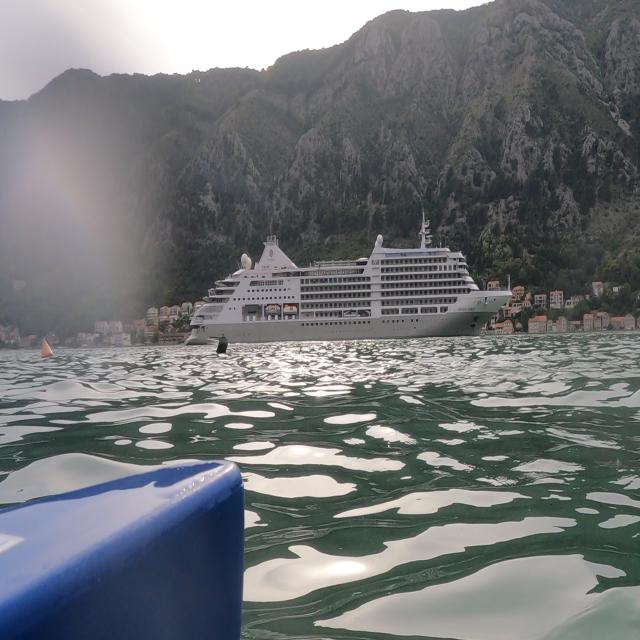boat: (183, 206, 514, 347)
buoy: (31, 332, 60, 363), (209, 331, 235, 365)
